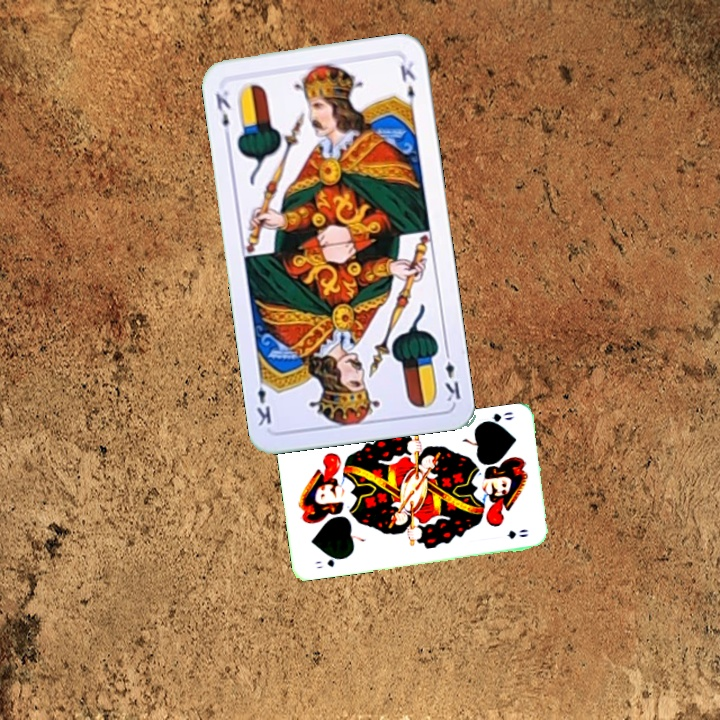EK: (440, 344, 463, 404), (211, 86, 233, 142)
GO: (478, 408, 517, 428), (312, 553, 346, 571)
